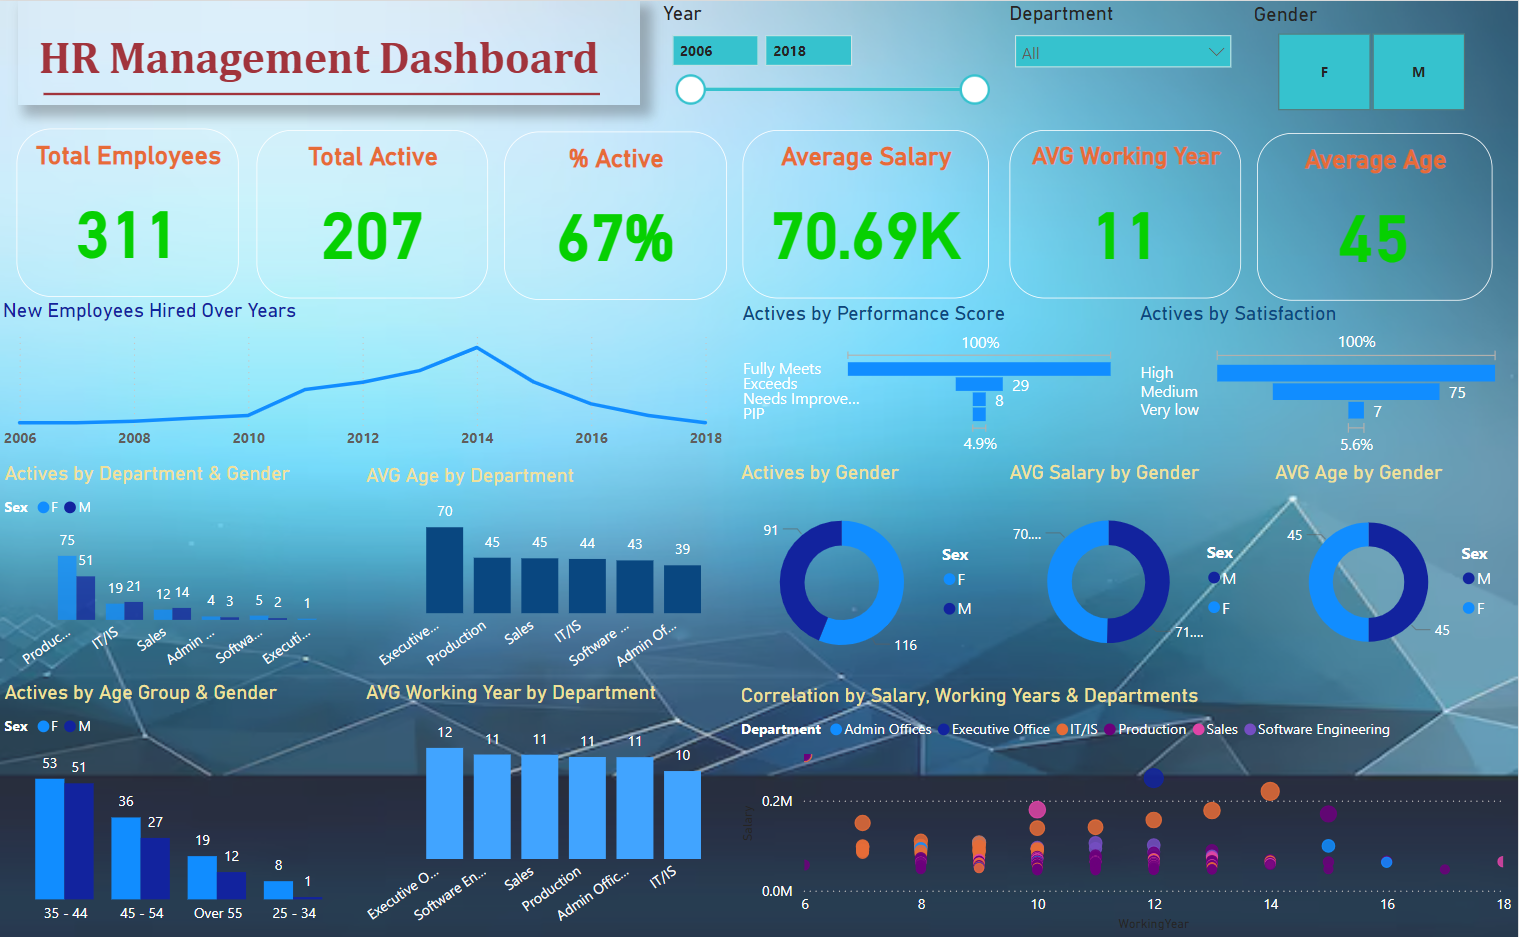

This screenshot's page, from the dashboard's own definition file:
{"tool":"powerbi","page":{"name":"Page 1","canvas":[1300,800],"ordinal":0},"visuals":[{"type":"lineChart","title":"New Employees Hired  Over Years","fields":{"Y":["HRDataset.active_employee"],"Category":["HRDataset.HiredYear"]},"box":[0,254,624.4,137.5],"z":0},{"type":"card","title":"Total Employees","fields":{"Values":["HRDataset.total_employees"]},"box":[17.1,108.6,190.3,143.9],"z":1000},{"type":"card","title":"Average Salary","fields":{"Values":["HRDataset.avg_salary"]},"box":[638,110.3,210.6,143.7],"z":2000},{"type":"card","title":"Total Active","fields":{"Values":["HRDataset.ative_employee"]},"box":[221.8,110.3,198.2,143.7],"z":3000},{"type":"card","title":"% Active ","fields":{"Values":["HRDataset.% active employees"]},"box":[433.6,111.5,190.8,143.7],"z":4000},{"type":"card","title":"Average Age","fields":{"Values":["HRDataset.avg_age"]},"box":[1077.3,112.9,201.3,143.6],"z":5000},{"type":"card","title":"AVG Working Year","fields":{"Values":["HRDataset.avg_working_year"]},"box":[866,110.3,198.2,143.7],"z":7000},{"type":"donutChart","title":"AVG Salary by Gender","fields":{"Category":["HRDataset.Sex"],"Y":["HRDataset.avg_salary"]},"box":[861,392.9,221.8,188.3],"z":8000},{"type":"clusteredColumnChart","title":"Actives by Age Group & Gender","fields":{"Y":["HRDataset.active_employee"],"Category":["HRDataset.AgeGroup"],"Series":["HRDataset.Sex"]},"box":[1.2,581,309.7,216.8],"z":9000},{"type":"clusteredColumnChart","title":"AVG Working Year by Department","fields":{"Category":["HRDataset.Department"],"Y":["HRDataset.avg_working_year"]},"box":[311,581,313.4,219.3],"z":10000},{"type":"clusteredColumnChart","title":"Actives by Department & Gender","fields":{"Category":["HRDataset.Department"],"Y":["HRDataset.active_employee"],"Series":["HRDataset.Sex"]},"box":[1.2,394,309.7,187.1],"z":11000},{"type":"slicer","title":"Department","fields":{"Values":["HRDataset.Department"]},"box":[860.2,0.5,204.4,100.3],"z":12000},{"type":"slicer","title":"Year","fields":{"Values":["HRDataset.HiredYear"]},"box":[563.7,0.5,292.4,100.3],"z":13000},{"type":"slicer","title":"Gender","fields":{"Values":["HRDataset.Sex"]},"box":[1069.2,1.2,209.4,99.1],"z":14000},{"type":"scatterChart","title":"Correlation by Salary, Working Years & Departments","fields":{"X":["HRDataset.WorkingYear"],"Y":["HRDataset.Salary"],"Series":["HRDataset.Department"],"Size":["Sum(HRDataset.Salary)1"]},"box":[631.2,584.1,668.4,215.8],"z":15000},{"type":"donutChart","title":"Actives by Gender","fields":{"Category":["HRDataset.Sex"],"Y":["HRDataset.active_employee"]},"box":[631.2,392.1,225,190],"z":16000},{"type":"clusteredColumnChart","title":"AVG Age by Department","fields":{"Category":["HRDataset.Department"],"Y":["HRDataset.avg_age"]},"box":[311,395.2,313.4,187.1],"z":17000},{"type":"donutChart","title":"AVG Age by Gender","fields":{"Category":["HRDataset.Sex"],"Y":["HRDataset.avg_age"]},"box":[1087.5,392.7,212.5,188.8],"z":18000},{"type":"funnel","title":"Actives by Performance Score","fields":{"Category":["HRDataset.PerformanceScore"],"Y":["HRDataset.active_employee"]},"box":[631.8,256.4,329.5,135],"z":19000},{"type":"funnel","title":"Actives by Satisfaction","fields":{"Y":["HRDataset.active_employee"],"Category":["HRDataset.NewEmpSatisfaction"]},"box":[972.5,256.4,318.4,135],"z":20000},{"type":"shape","box":[18,0,532.2,88.5],"z":20001},{"type":"textbox","box":[31,21.1,498.5,59.5],"z":20002},{"type":"shape","box":[39.8,20.5,475.8,118],"z":20003}]}

Visuals, with their boxes in screenshot pixels (x1, y1, x2, y2), scaled from the page's 1300x800 canvas onto the 1519x937 screenshot:
"New Employees Hired  Over Years" lineChart: pyautogui.locateOnScreen(0, 297, 730, 459)
"Total Employees" card: pyautogui.locateOnScreen(20, 127, 242, 296)
"Average Salary" card: pyautogui.locateOnScreen(745, 129, 992, 297)
"Total Active" card: pyautogui.locateOnScreen(259, 129, 491, 297)
"% Active " card: pyautogui.locateOnScreen(507, 131, 730, 299)
"Average Age" card: pyautogui.locateOnScreen(1259, 132, 1494, 300)
"AVG Working Year" card: pyautogui.locateOnScreen(1012, 129, 1243, 297)
"AVG Salary by Gender" donutChart: pyautogui.locateOnScreen(1006, 460, 1265, 681)
"Actives by Age Group & Gender" clusteredColumnChart: pyautogui.locateOnScreen(1, 680, 363, 934)
"AVG Working Year by Department" clusteredColumnChart: pyautogui.locateOnScreen(363, 680, 730, 936)
"Actives by Department & Gender" clusteredColumnChart: pyautogui.locateOnScreen(1, 461, 363, 681)
"Department" slicer: pyautogui.locateOnScreen(1005, 1, 1244, 118)
"Year" slicer: pyautogui.locateOnScreen(659, 1, 1000, 118)
"Gender" slicer: pyautogui.locateOnScreen(1249, 1, 1494, 117)
"Correlation by Salary, Working Years & Departments" scatterChart: pyautogui.locateOnScreen(738, 684, 1518, 936)
"Actives by Gender" donutChart: pyautogui.locateOnScreen(738, 459, 1000, 682)
"AVG Age by Department" clusteredColumnChart: pyautogui.locateOnScreen(363, 463, 730, 682)
"AVG Age by Gender" donutChart: pyautogui.locateOnScreen(1271, 460, 1518, 681)
"Actives by Performance Score" funnel: pyautogui.locateOnScreen(738, 300, 1123, 458)
"Actives by Satisfaction" funnel: pyautogui.locateOnScreen(1136, 300, 1508, 458)
shape: pyautogui.locateOnScreen(21, 0, 643, 104)
textbox: pyautogui.locateOnScreen(36, 25, 619, 94)
shape: pyautogui.locateOnScreen(47, 24, 602, 162)
